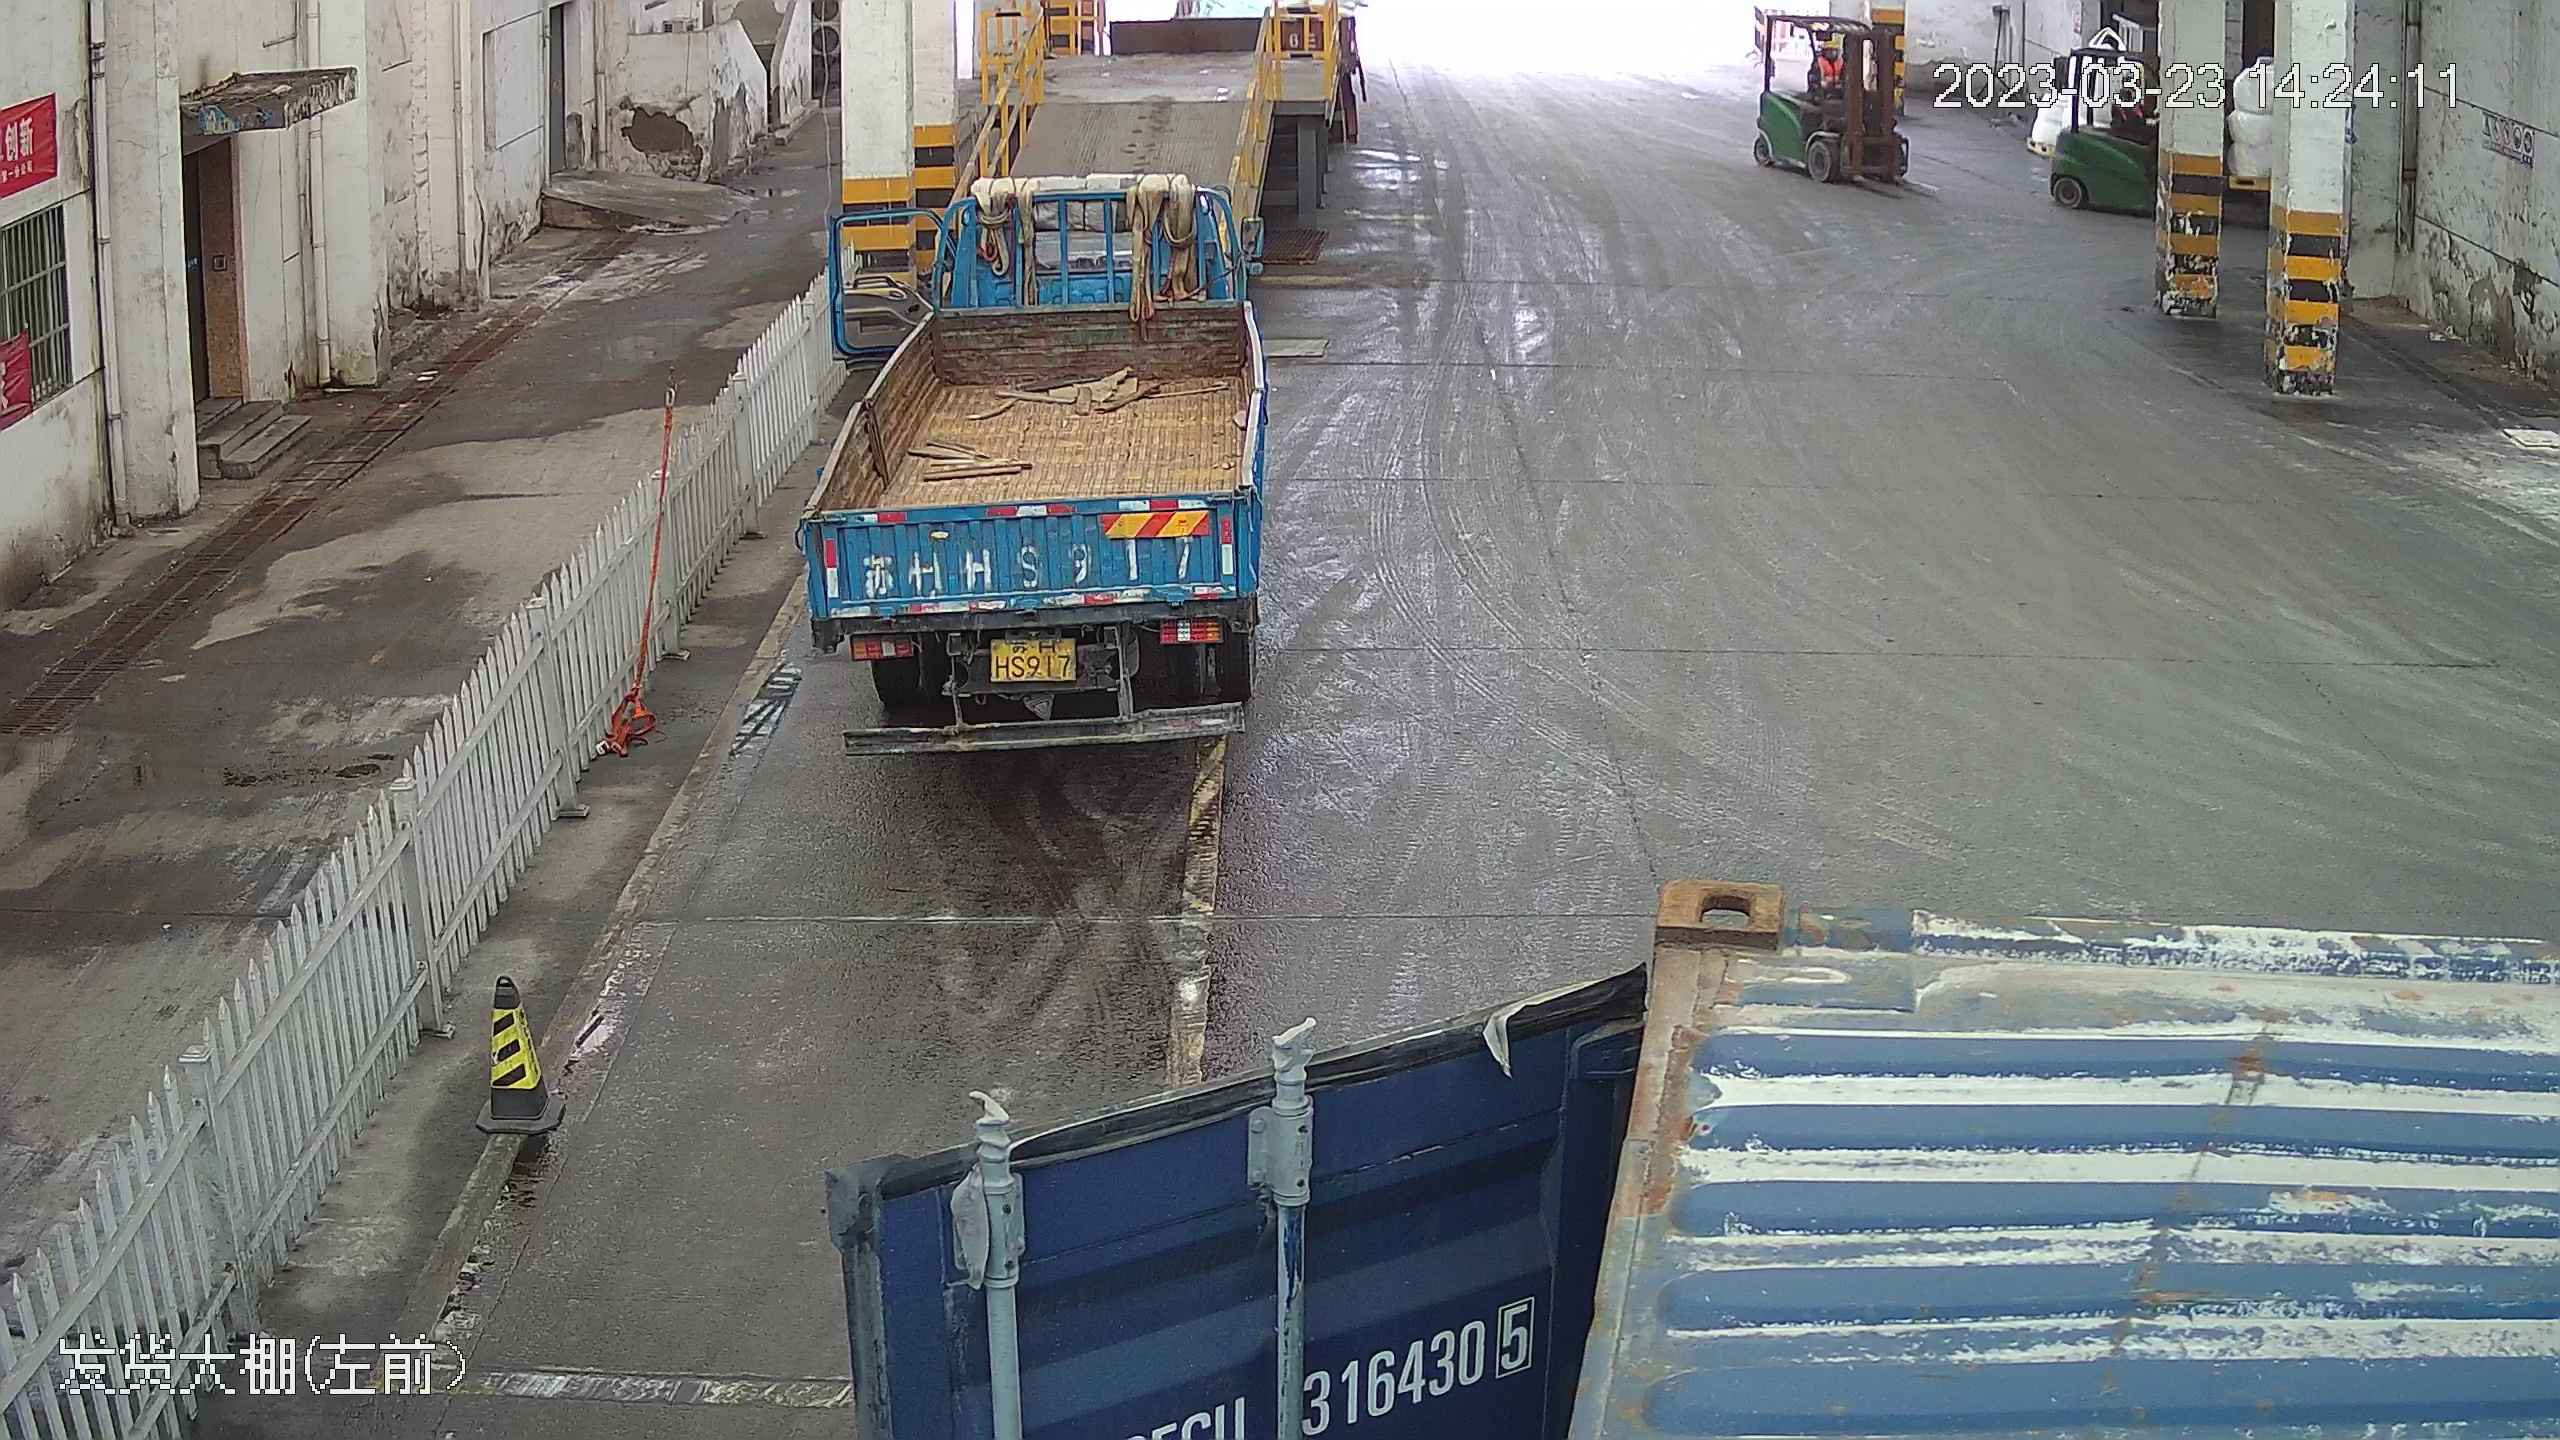truck: (786, 158, 1257, 753)
